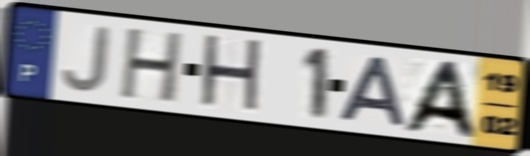1: (299, 46, 333, 122)
A: (396, 59, 482, 142), (336, 53, 410, 129)
H: (197, 31, 265, 118), (116, 26, 187, 107)
J: (59, 24, 113, 95)
